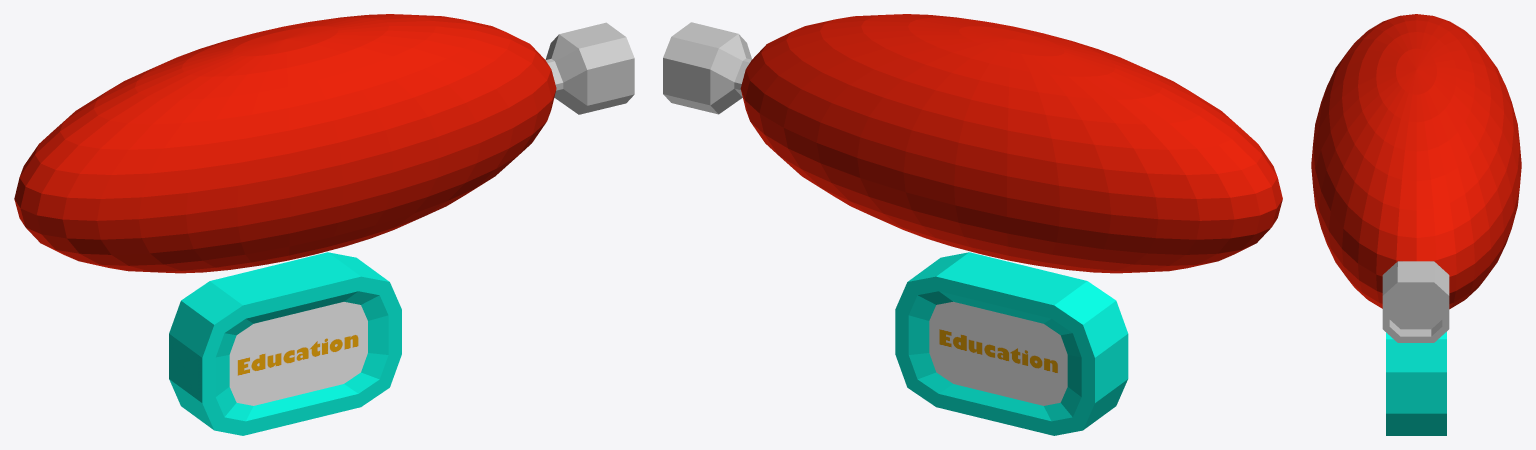
File: floatingBEducation.glb
3 views of the same model, side by side, from view 1: azimuth 30°, elevation 25°; view 2: azimuth 150°, elevation 25°; view 3: azimuth 270°, elevation 25° (orthographic). The views are drawn at different scales.
Visible parts, largest first — view 1: Cube.009; view 2: Cube.009; view 3: Cube.009.
Boxes of the visible parts, bbox=[...] form: Cube.009: bbox=[14, 14, 634, 435]; Cube.009: bbox=[663, 14, 1282, 435]; Cube.009: bbox=[1311, 14, 1521, 435].
Size of the model in its own units: 17.34 by 10.29 by 5.81.
Materials: 4 (1 with a texture image).
